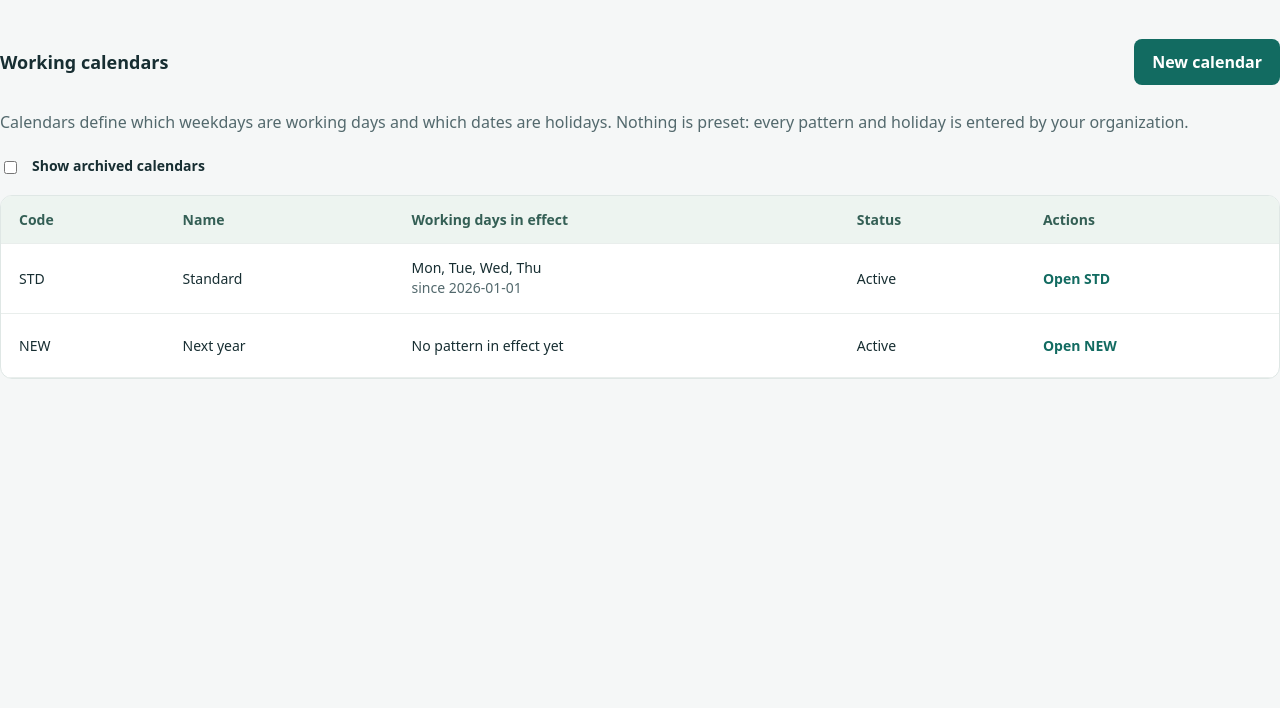
Test case: keeps rename input on a 409 conflict and saves against the reloaded version
Click the button "Open STD".
click(1077, 278)  # box x1=1043 y1=261 x2=1110 y2=296
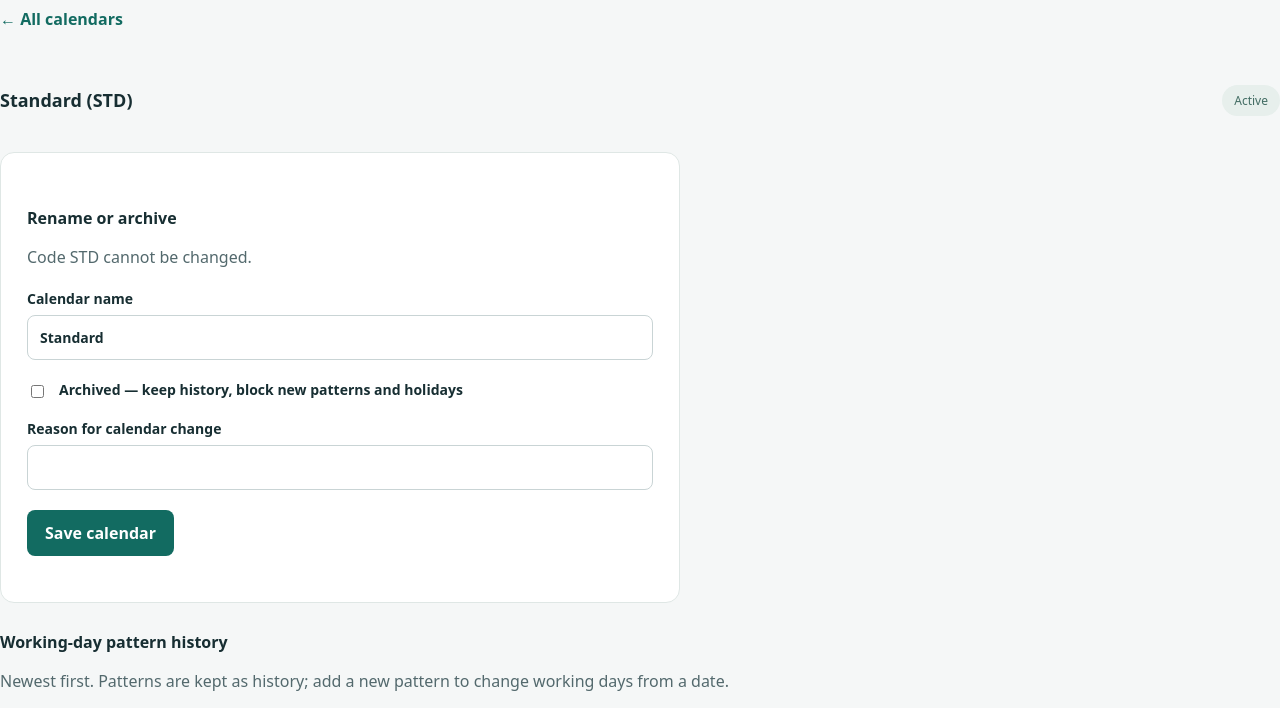
Replace the text in the field labelled "Calendar name" with "Office week" at (340, 337), box x1=27 y1=315 x2=653 y2=360
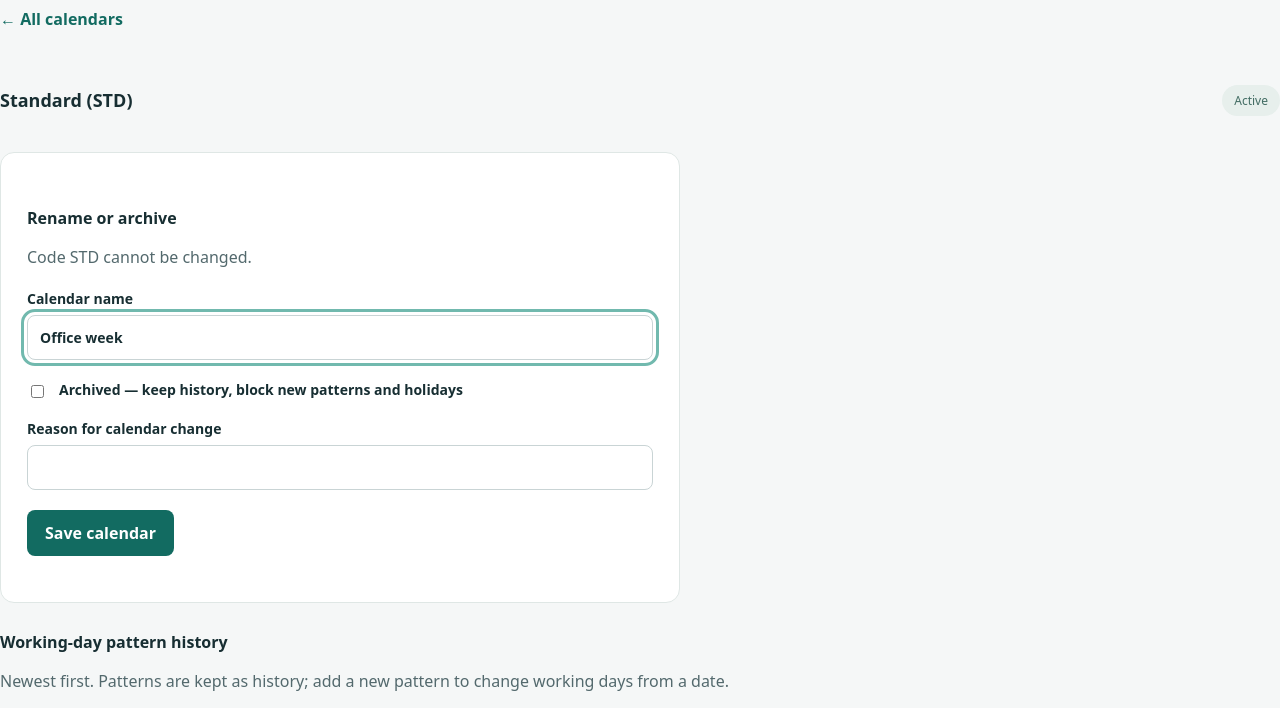
Type "Clearer name" into the field labelled "Reason for calendar change".
click(340, 467); type("Clearer name")  # box x1=27 y1=445 x2=653 y2=490
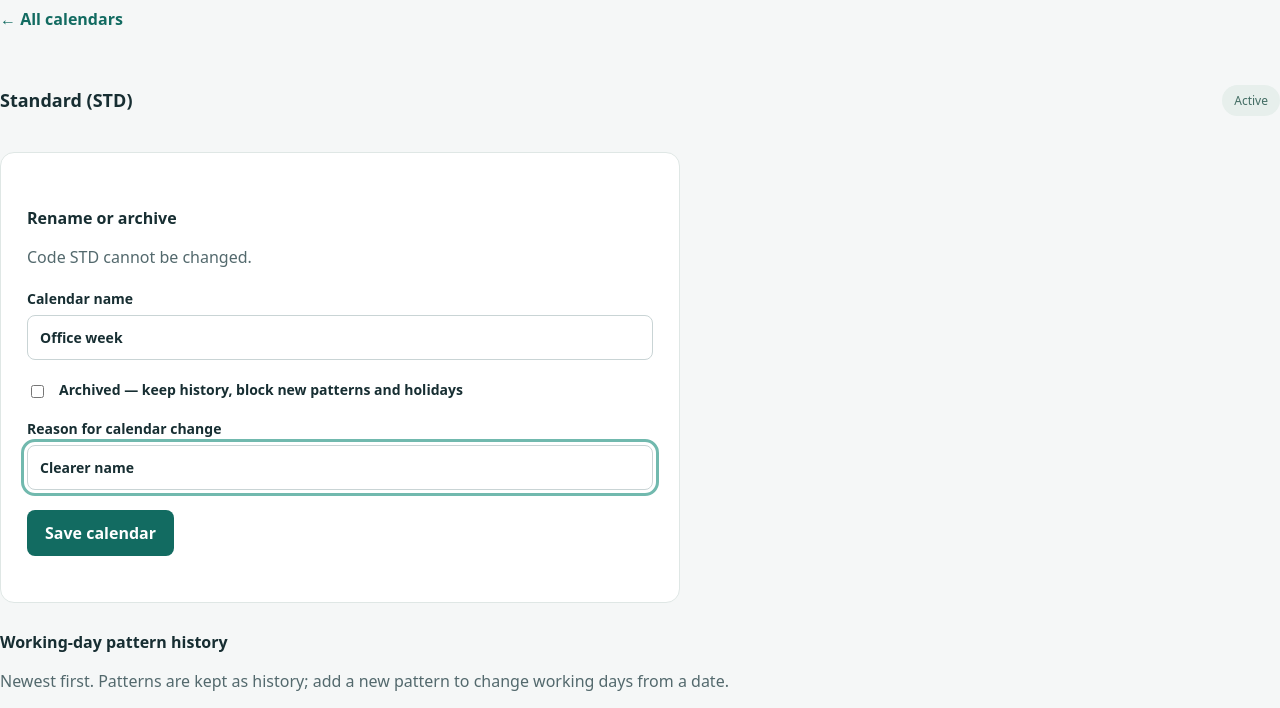
Click the button "Save calendar".
click(100, 533)  # box x1=27 y1=510 x2=174 y2=556
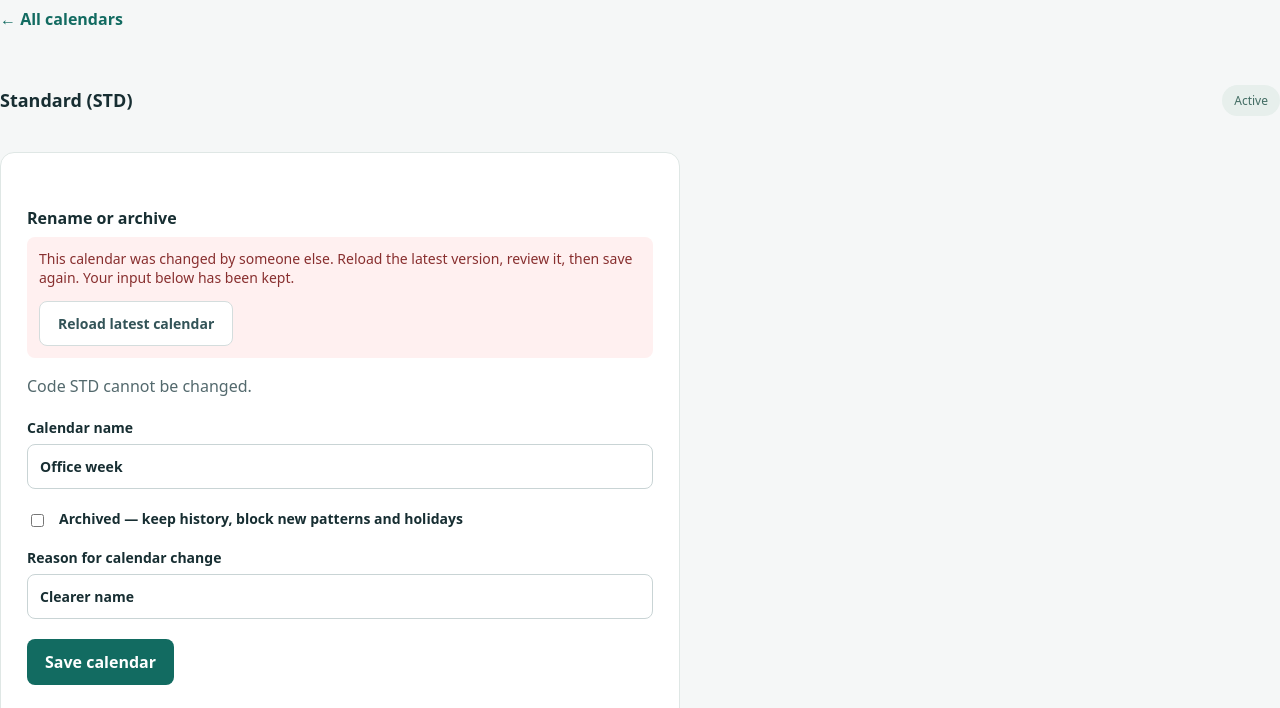
Now the message shows "changed by someone else", box x1=39 y1=249 x2=632 y2=287
Click the button "Reload latest calendar".
click(136, 324)  # box x1=39 y1=301 x2=233 y2=346
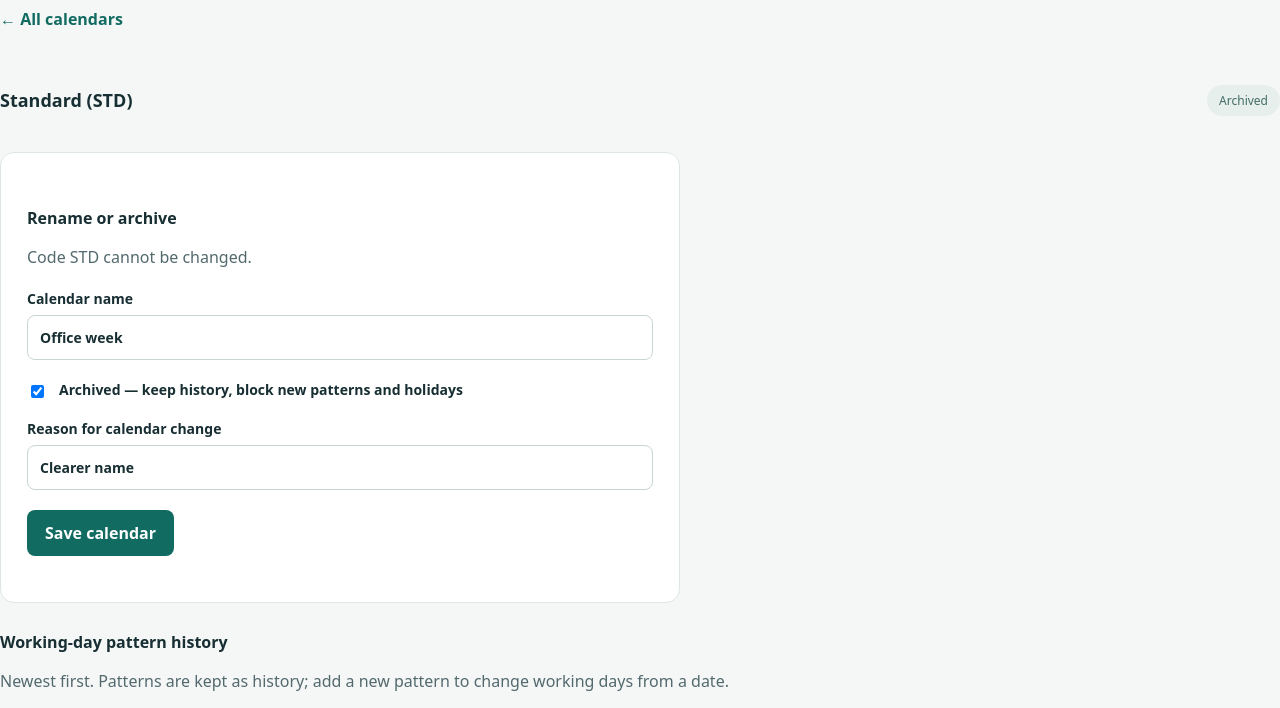
Now the checkbox labelled "Archived — keep history, block new patterns and holidays" is checked, box x1=31 y1=385 x2=44 y2=398
Click the button "Save calendar".
click(100, 533)  # box x1=27 y1=510 x2=174 y2=556
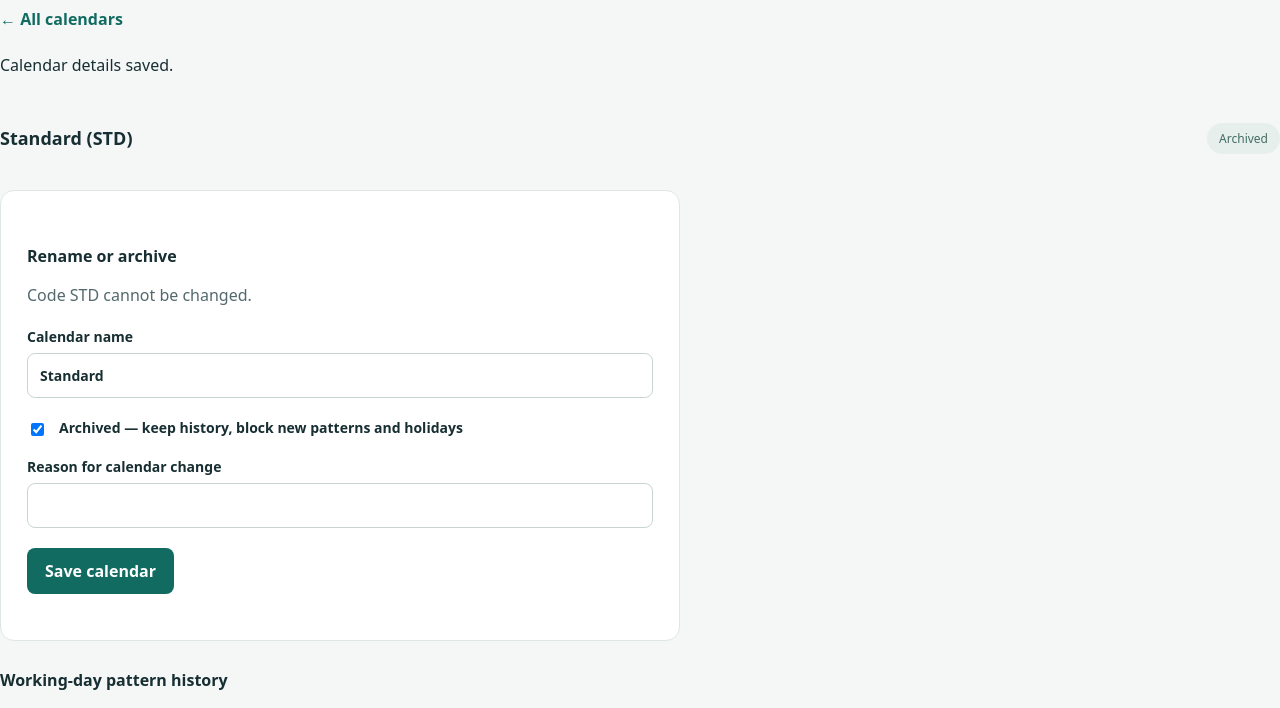
Now the text "Calendar details saved." is shown, box x1=0 y1=54 x2=173 y2=76
